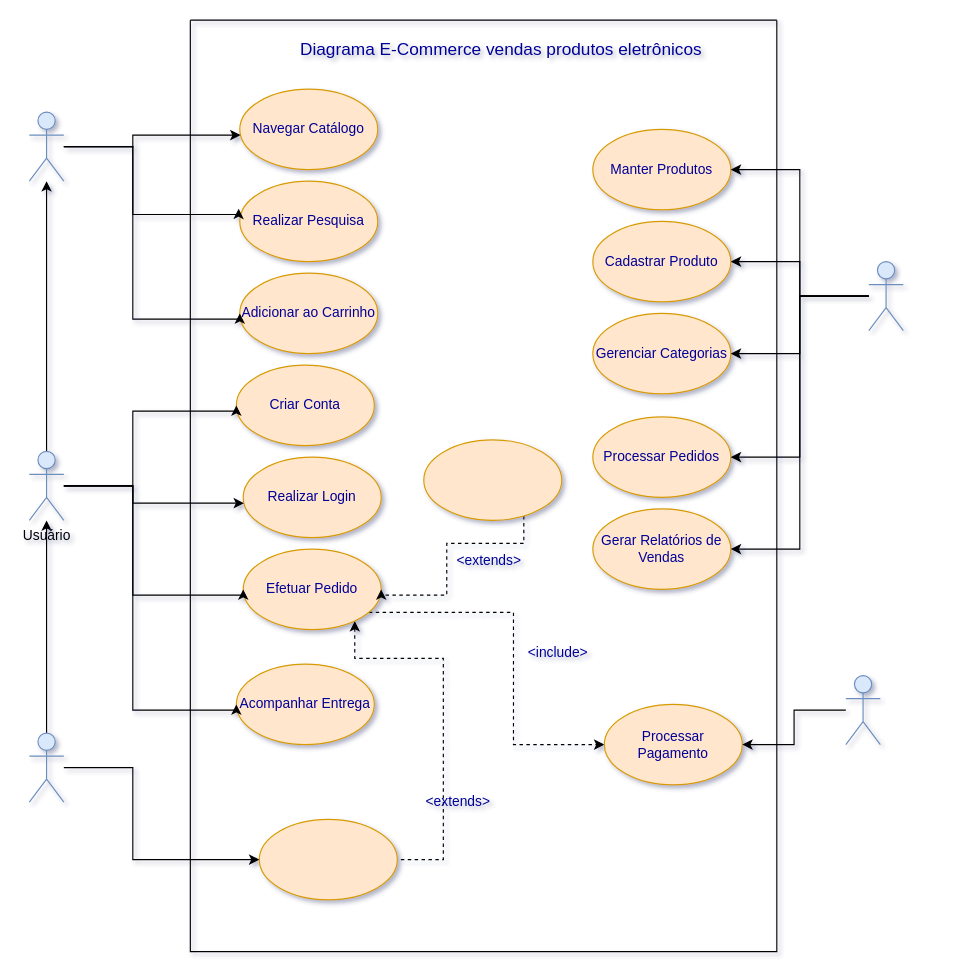
The diagram is 955 pixels wide and 979 high, and some of its shapes have lost their labels. Each missing label, with the centre of its shape:
Acompanhar pedido: (x=492, y=479)
Administrador: (x=885, y=295)
Cliente: (x=46, y=767)
Deixar Avaliação/Comentário: (x=327, y=859)
Sistema Externo Pagamento: (x=862, y=709)
Visitante: (x=46, y=146)
